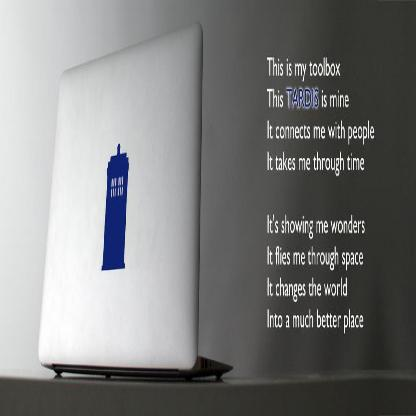board: (44, 26, 211, 385)
